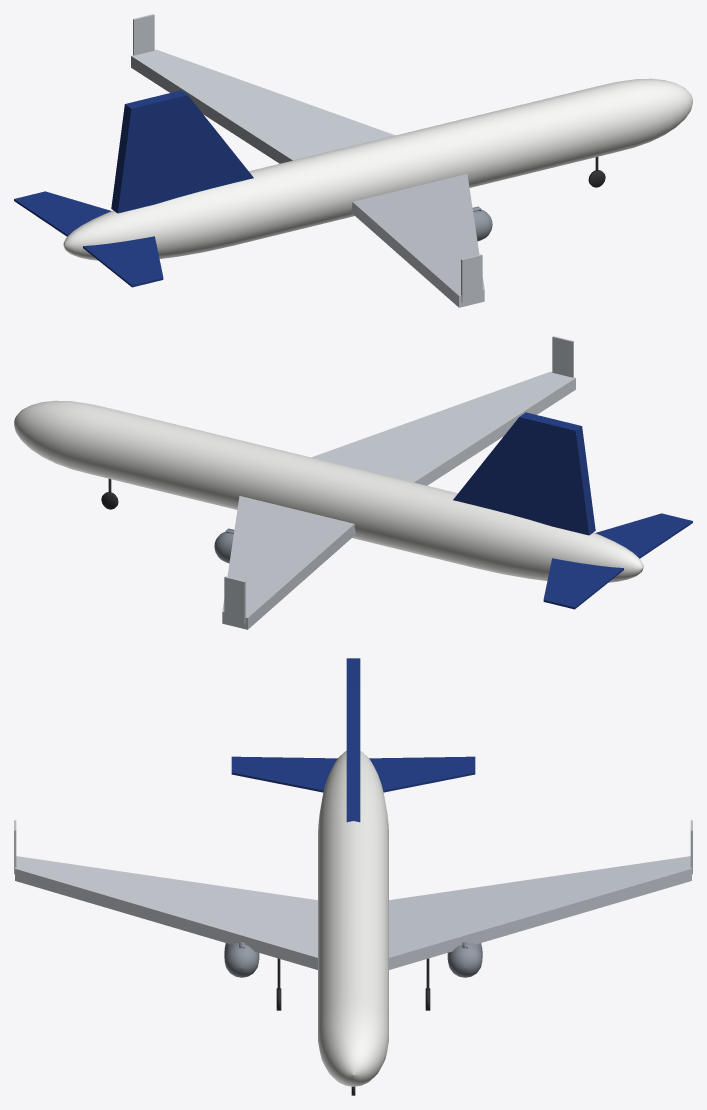
3 renders of one model, top to bottom at view 1: azimuth 30°, elevation 25°; view 2: azimuth 150°, elevation 25°; view 3: azimuth 270°, elevation 25°, orthographic. The views are drawn at different scales.
Visible parts, largest first — view 1: fuselage, wings, tail, engines; view 2: fuselage, wings, tail, engines; view 3: wings, fuselage, tail, engines.
Part boxes in pixels (<box>): fuselage: <box>63,78,692,260</box>; wings: <box>131,14,484,307</box>; tail: <box>14,90,253,287</box>; engines: <box>472,206,492,241</box>; fuselage: <box>14,400,643,582</box>; wings: <box>222,336,575,629</box>; tail: <box>453,412,692,609</box>; engines: <box>214,528,234,563</box>; wings: <box>14,820,692,969</box>; fuselage: <box>318,751,388,1086</box>; tail: <box>231,658,475,822</box>; engines: <box>224,941,482,977</box>.
Bounding box in the file's own units: 38.7 × 11.49 × 35.22.
